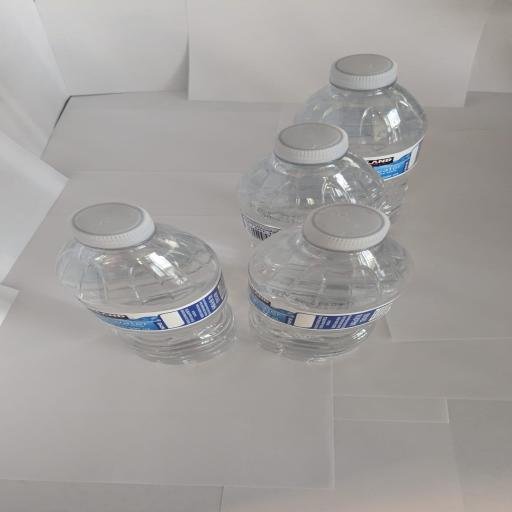waterbottle: (57, 204, 234, 363), (249, 204, 411, 361), (294, 55, 427, 222), (238, 123, 383, 246)
